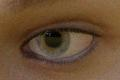eye: (37, 30, 71, 56)
